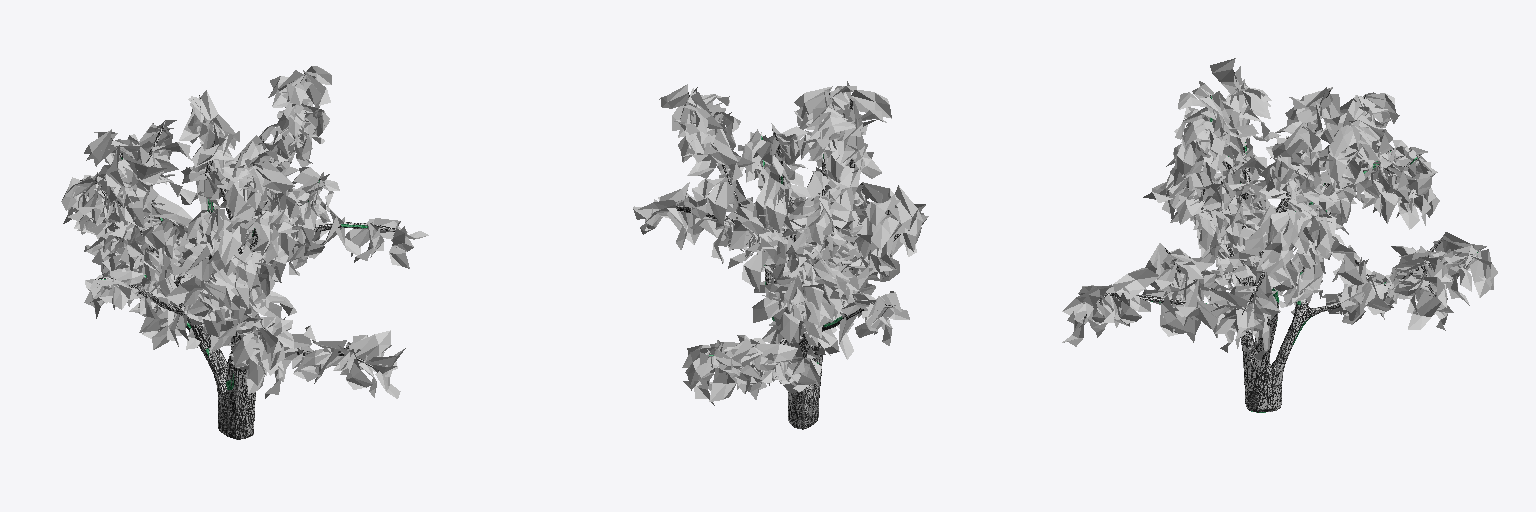
3 renders of one model, left to right at view 1: azimuth 30°, elevation 25°; view 2: azimuth 150°, elevation 25°; view 3: azimuth 270°, elevation 25°, orthographic.
Visible parts, largest first — view 1: Cube; view 2: Cube; view 3: Cube.
Boxes of the visible parts, x1,y1,x2,y2 form: Cube: [61, 66, 428, 439]; Cube: [633, 81, 928, 429]; Cube: [1062, 58, 1497, 412].
Size of the model in its own units: 28.12 by 28.99 by 34.57.
2 materials, 1 textured.